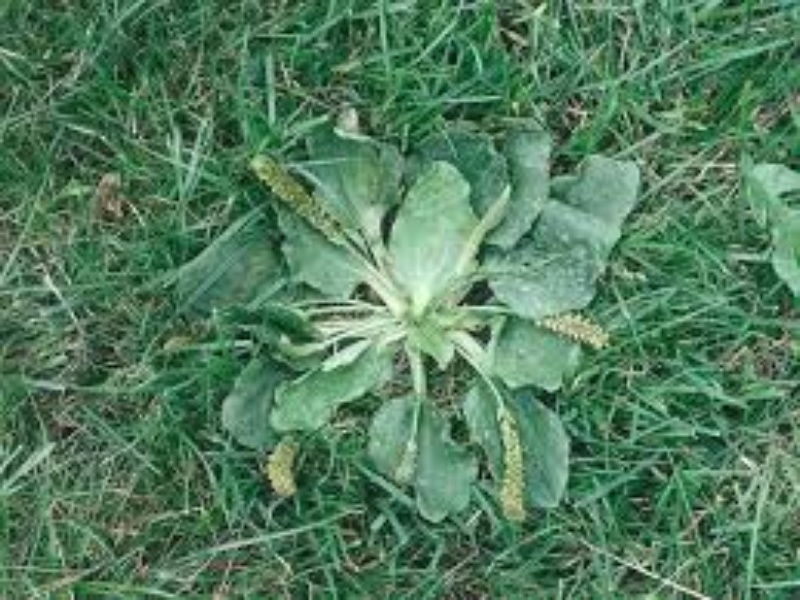weed: (230, 127, 634, 511), (729, 154, 800, 295)
